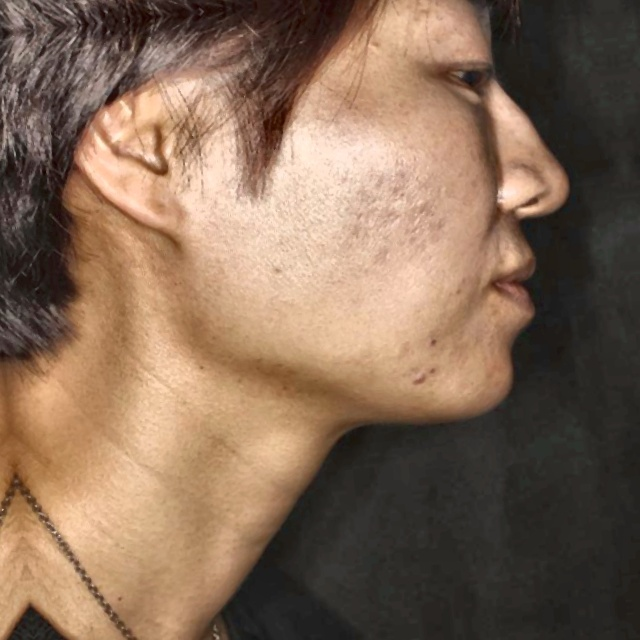comedone: (382, 360, 445, 402)
